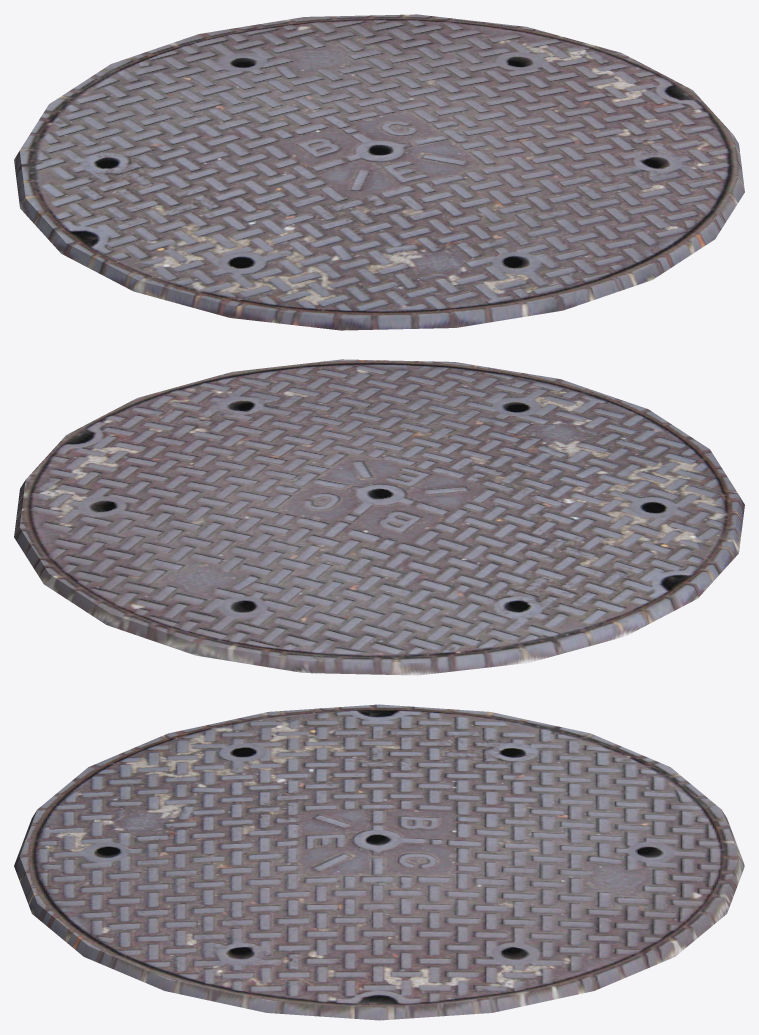
Rendered from prp_manhole.fbx.
The picture shows the model from 3 angles, top to bottom: view 1: azimuth 30°, elevation 25°; view 2: azimuth 150°, elevation 25°; view 3: azimuth 270°, elevation 25°; orthographic projection.
Parts seen in each view (by area): view 1: prp_manhole; view 2: prp_manhole; view 3: prp_manhole.
Boxes of the visible parts, bbox=[...] form: prp_manhole: bbox=[14, 14, 744, 330]; prp_manhole: bbox=[14, 359, 744, 675]; prp_manhole: bbox=[14, 704, 744, 1020].
Bounding box in the file's own units: 99.42 × 4.03 × 99.42.
